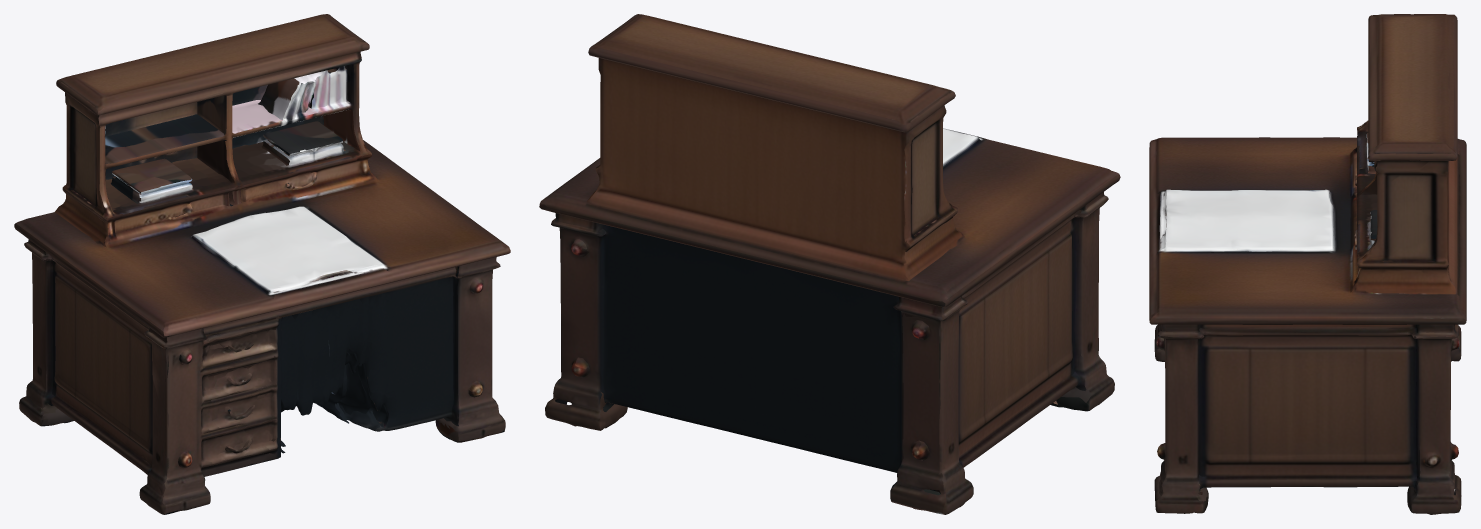
File: escritorio_oficina.glb
3 renders of one model, left to right at view 1: azimuth 30°, elevation 25°; view 2: azimuth 150°, elevation 25°; view 3: azimuth 270°, elevation 25°, orthographic. The views are drawn at different scales.
Visible parts, largest first — view 1: tmpi9bfr9ul.ply; view 2: tmpi9bfr9ul.ply; view 3: tmpi9bfr9ul.ply.
Boxes of the visible parts, x1=… form: tmpi9bfr9ul.ply: x1=14, y1=14, x2=510, y2=514; tmpi9bfr9ul.ply: x1=539, y1=14, x2=1120, y2=514; tmpi9bfr9ul.ply: x1=1149, y1=14, x2=1466, y2=514.
Size of the model in its own units: 0.9897 by 0.9125 by 0.7415.
Materials: 1 (1 with a texture image).
